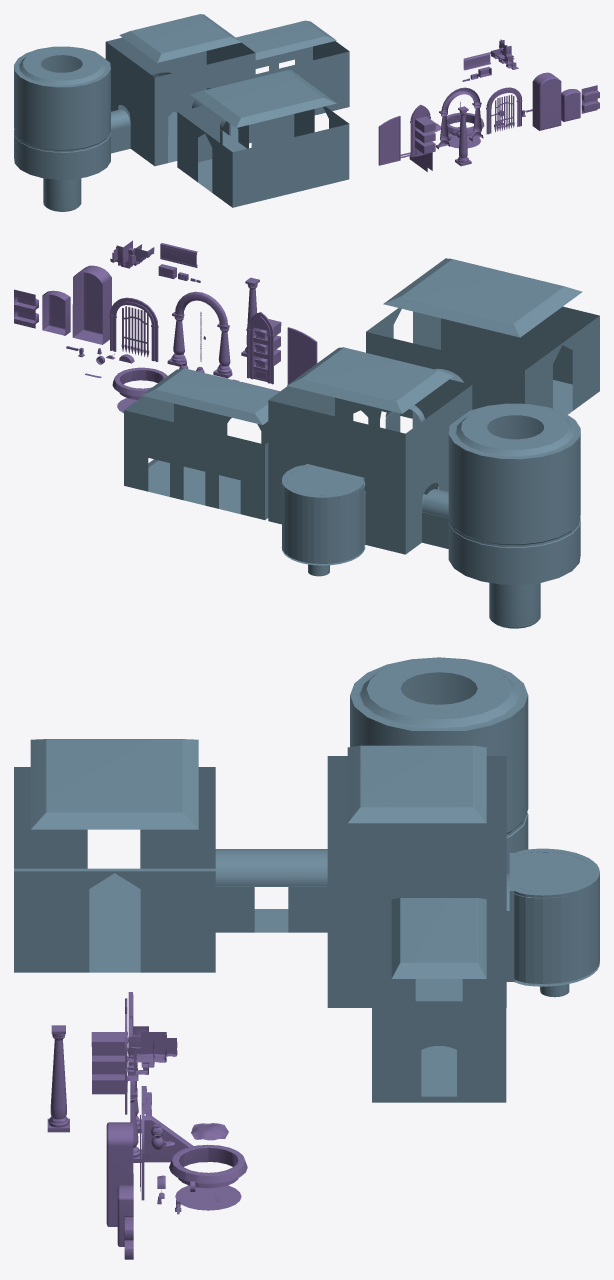
The model's file is cmc_dungeon_floor01.fbx.
3 views of the same model, one above another, from view 1: azimuth 30°, elevation 25°; view 2: azimuth 150°, elevation 25°; view 3: azimuth 270°, elevation 25° (orthographic). The views are drawn at different scales.
Visible parts, largest first — view 1: ceiling (×5), B_wall (×2), walls, L_wall (×4), F_wall (×3), R_wall (×4), alcove_02, hole, coffin_wall, floor (×2), L_large_door_low, entryway_arch (+9 smaller); view 2: ceiling (×6), walls (×2), L_wall (×3), F_wall (×3), B_wall (×2), R_wall (×4), floor (×2), alcove_02, hole, coffin_wall, entryway_arch, L_large_door_low (+7 smaller); view 3: ceiling (×6), R_wall (×3), walls (×2), L_wall (×2), F_wall, floor (×4), B_wall, coffin_wall, stone_border, alcove_02, corner_brick, pillar (+2 smaller).
Boxes of the visible parts, <box> form: ceiling (×5): <box>14,14,336,130</box>; B_wall (×2): <box>154,53,349,207</box>; walls: <box>14,55,110,179</box>; L_wall (×4): <box>105,42,312,207</box>; F_wall (×3): <box>106,37,349,162</box>; R_wall (×4): <box>206,42,349,148</box>; alcove_02: <box>532,72,561,130</box>; hole: <box>43,178,81,211</box>; coffin_wall: <box>410,104,435,157</box>; floor (×2): <box>130,113,238,192</box>; L_large_door_low: <box>378,116,400,165</box>; entryway_arch: <box>436,87,483,149</box>; ceiling (×6): <box>141,258,582,518</box>; walls (×2): <box>282,415,580,584</box>; L_wall (×3): <box>124,316,599,553</box>; F_wall (×3): <box>124,332,524,554</box>; B_wall (×2): <box>335,306,599,494</box>; R_wall (×4): <box>174,308,448,548</box>; floor (×2): <box>148,368,572,513</box>; alcove_02: <box>72,265,111,344</box>; hole: <box>489,582,540,628</box>; coffin_wall: <box>246,312,281,384</box>; entryway_arch: <box>167,291,232,378</box>; L_large_door_low: <box>287,327,317,384</box>; ceiling (×6): <box>30,657,599,978</box>; R_wall (×3): <box>14,845,506,1007</box>; walls (×2): <box>350,672,599,984</box>; L_wall (×2): <box>14,756,506,868</box>; F_wall: <box>372,1001,506,1102</box>; floor (×4): <box>14,868,462,1096</box>; B_wall: <box>372,909,506,1001</box>; coffin_wall: <box>91,1014,128,1114</box>; stone_border: <box>169,1144,247,1188</box>; alcove_02: <box>106,1122,133,1226</box>; corner_brick: <box>126,1026,177,1080</box>; pillar: <box>47,1025,69,1132</box>.
Bounding box in the file's own units: 465 × 133 × 262.
